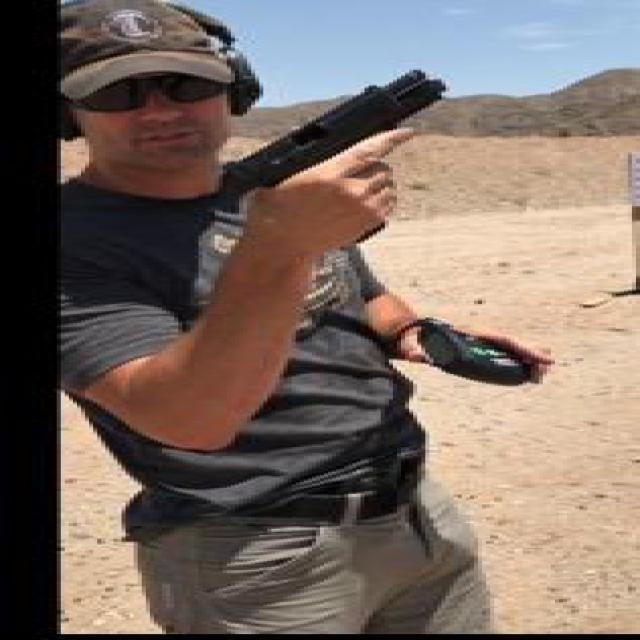gun: (222, 62, 446, 242)
